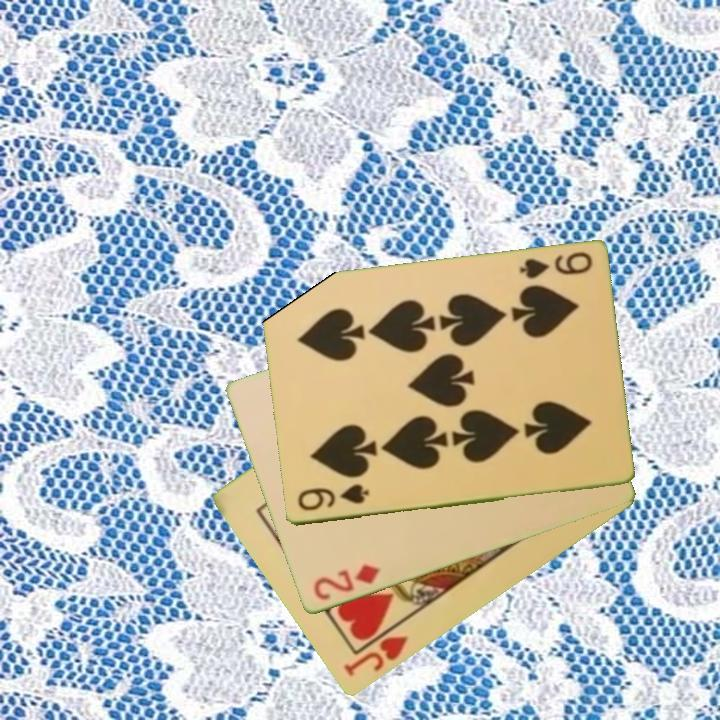2d: (309, 561, 384, 604)
9s: (515, 249, 595, 283), (293, 481, 372, 514)
Jh: (340, 632, 411, 680)
